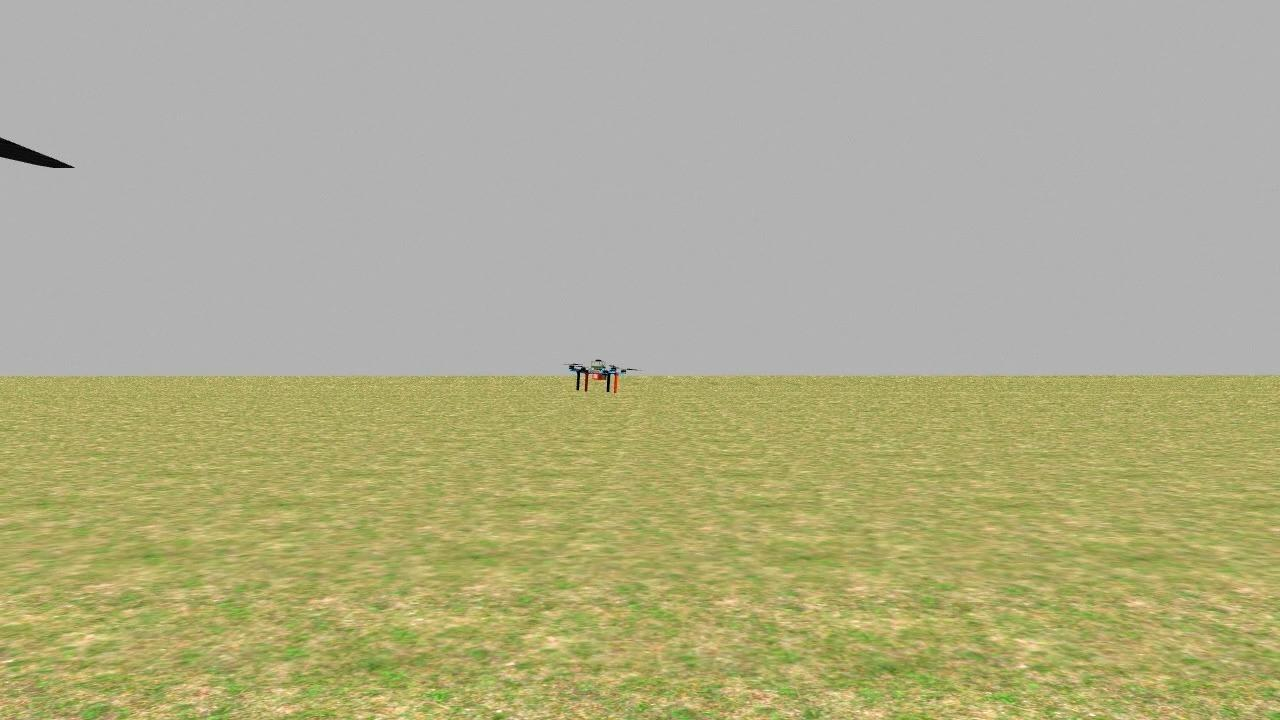UAV: (566, 356, 630, 404)
